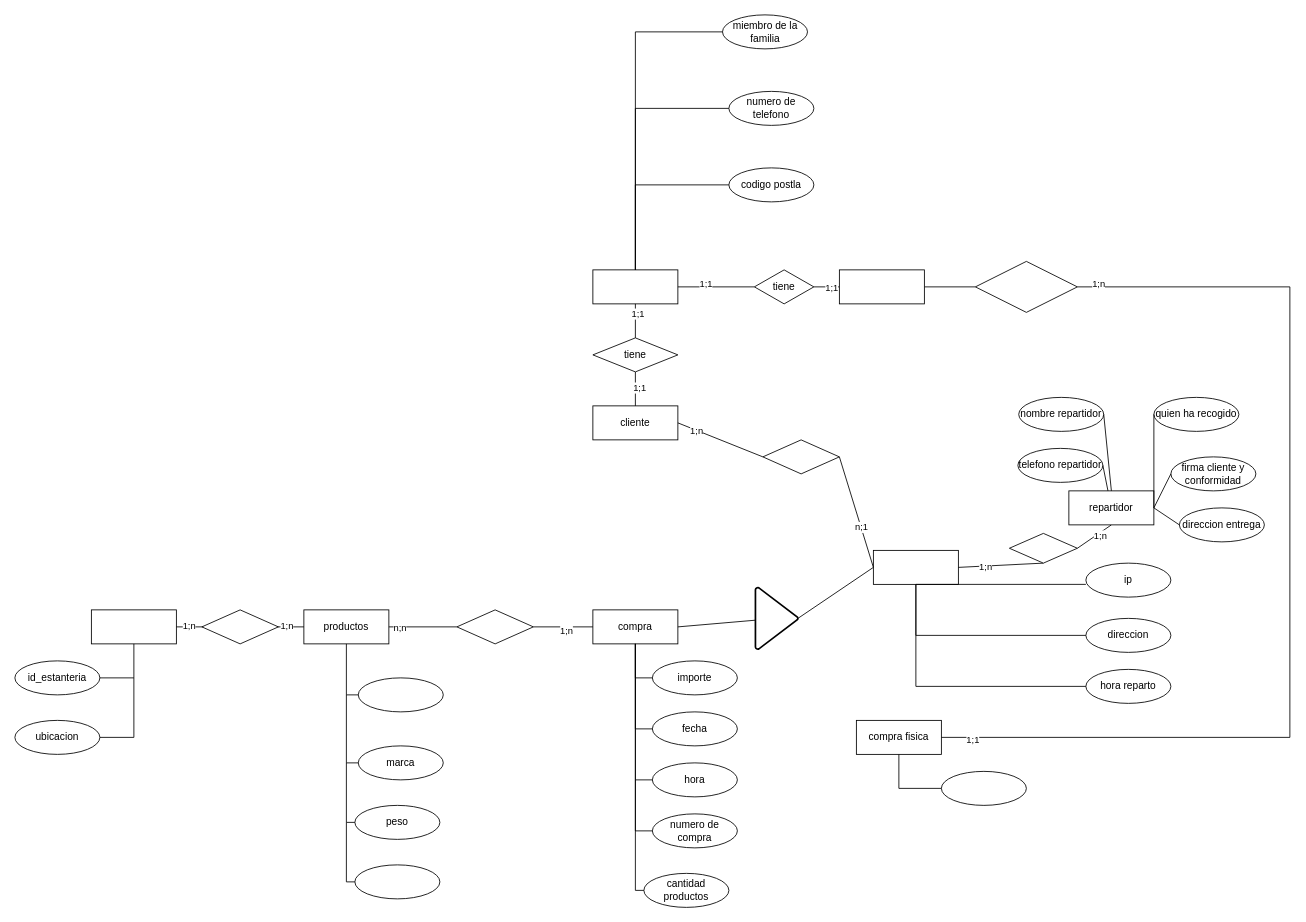
The diagram is 1306 pixels wide and 922 high, and some of its shapes have lost their labels. The shapes that lost their labels are listed below. From the top down, each one's centre as x and y in pixels, then its label:
the point at 635,286: tarjeta supermercado
the point at 881,286: numero de tarjeta
the point at 1026,286: identifica
the point at 800,456: puede realizar
the point at 915,567: compra online
the point at 1043,548: reparte
the point at 133,626: estanterias
the point at 239,626: estan en
the point at 494,626: compuesta por
the point at 776,618: isa
the point at 400,694: id_producto
the point at 983,788: numero de caja
the point at 397,881: dimensiones
